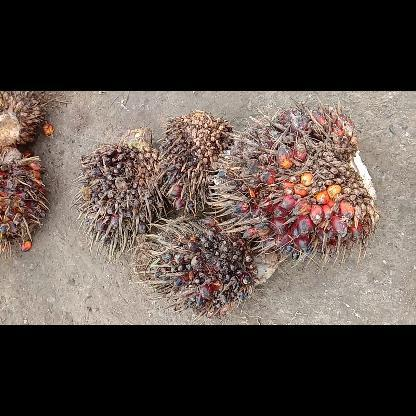TBS abnormal: (134, 215, 280, 315), (79, 128, 164, 246), (160, 109, 234, 213)
TBS masak: (215, 105, 377, 257)
